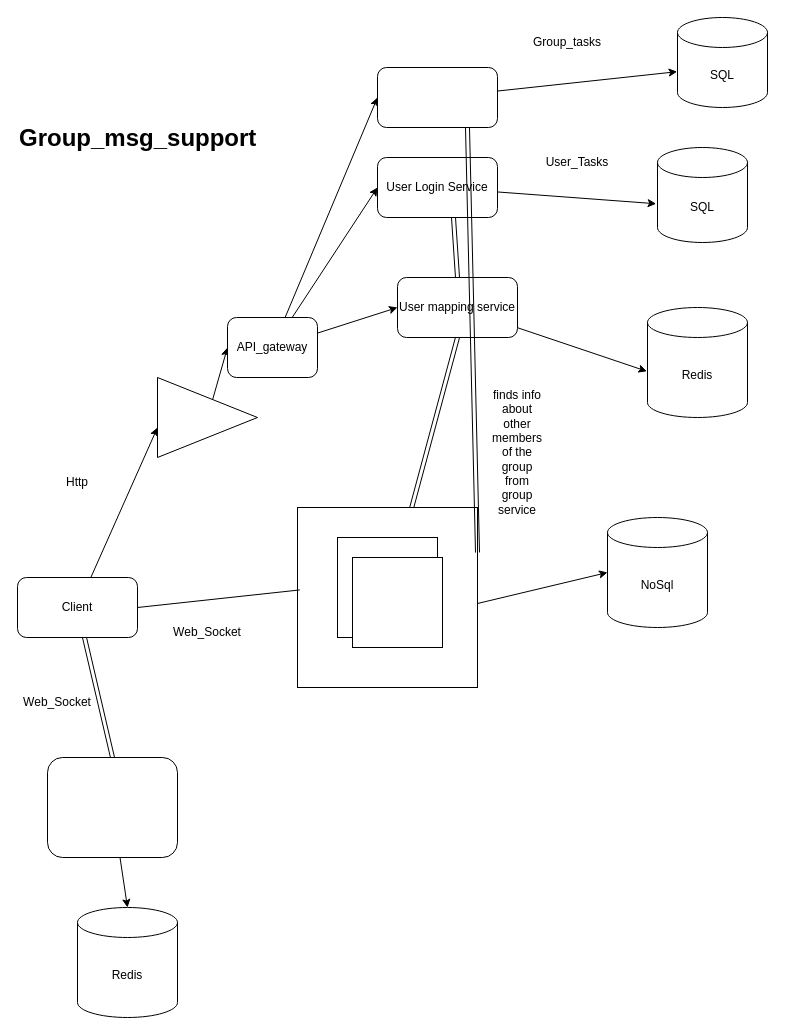
Image size: 785x1035. Some labels were removed from this diagram. Here are the shapes that lost their labels. From the top down, the box of each, then its label:
(376, 66, 498, 128): Group_service
(156, 376, 258, 458): Load_Balancer
(352, 556, 442, 648): chat_server_i
(46, 756, 178, 858): Presence System
